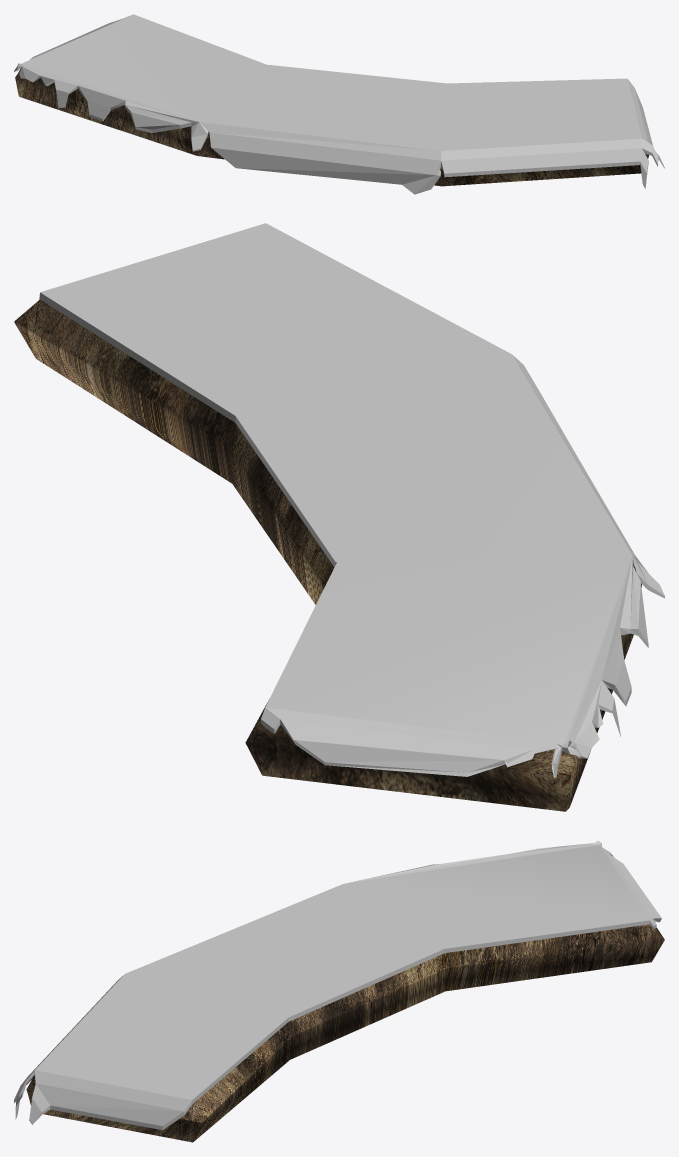
Rendered from Plat04.FBX.
3 views of the same model, one above another, from view 1: azimuth 30°, elevation 25°; view 2: azimuth 150°, elevation 25°; view 3: azimuth 270°, elevation 25° (orthographic). The views are drawn at different scales.
Visible parts, largest first — view 1: Plat004; view 2: Plat004; view 3: Plat004.
Part boxes in pixels (box(x1,y1,x2,y2)): Plat004: box(14, 14, 664, 194); Plat004: box(14, 223, 664, 811); Plat004: box(14, 840, 664, 1142).
Size of what is drawn, in the model's own units: 45.09 by 4.21 by 46.43.
